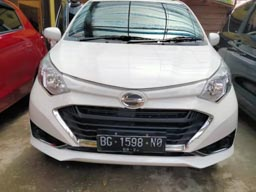plat: (97, 134, 166, 148)
